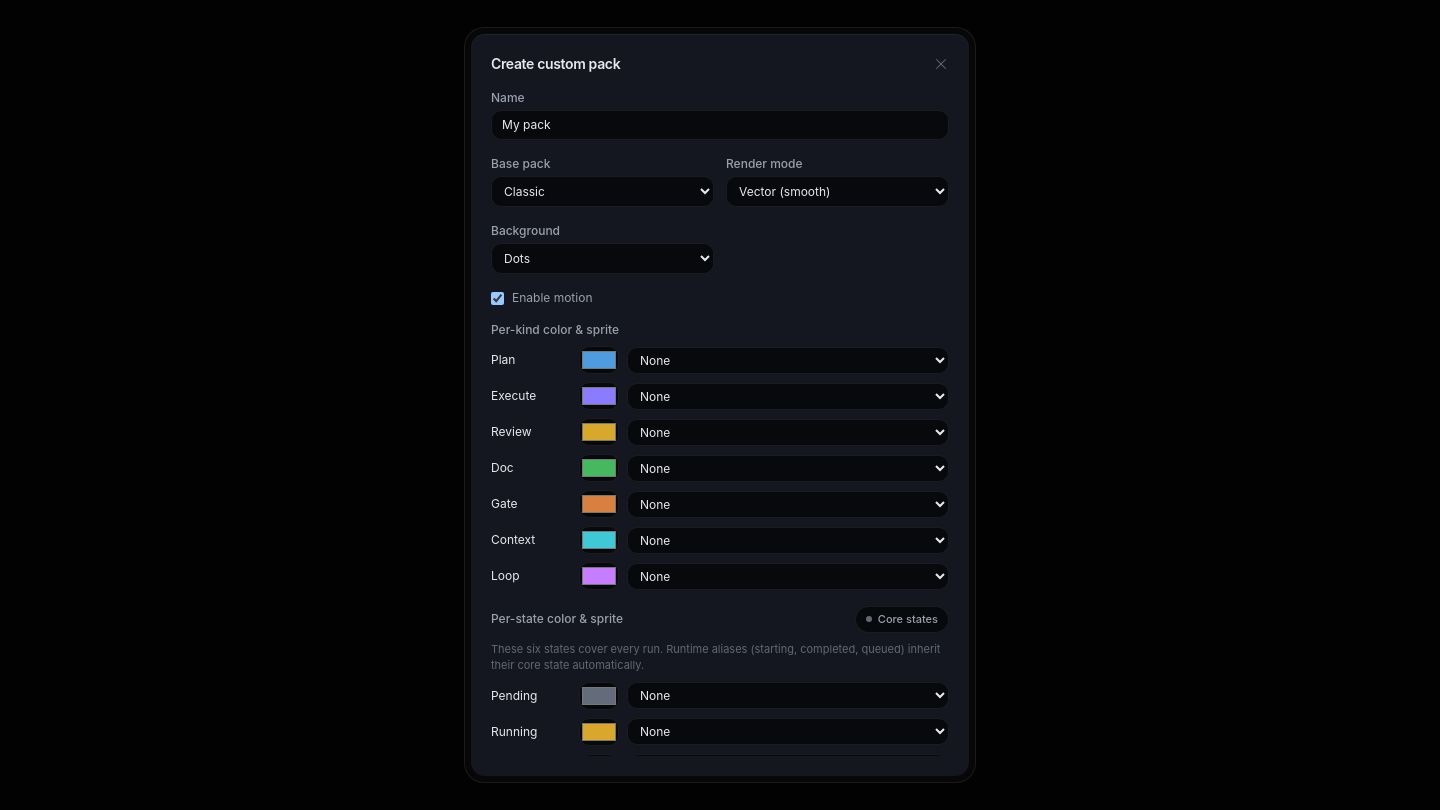
Test case: CustomPackBuilder › reveals all 16 states when 'show all states' is toggled on
The image size is (1440, 810).
Click the switch named "Show all states": point(902, 619) [855,606,949,632]
(page scrolled)
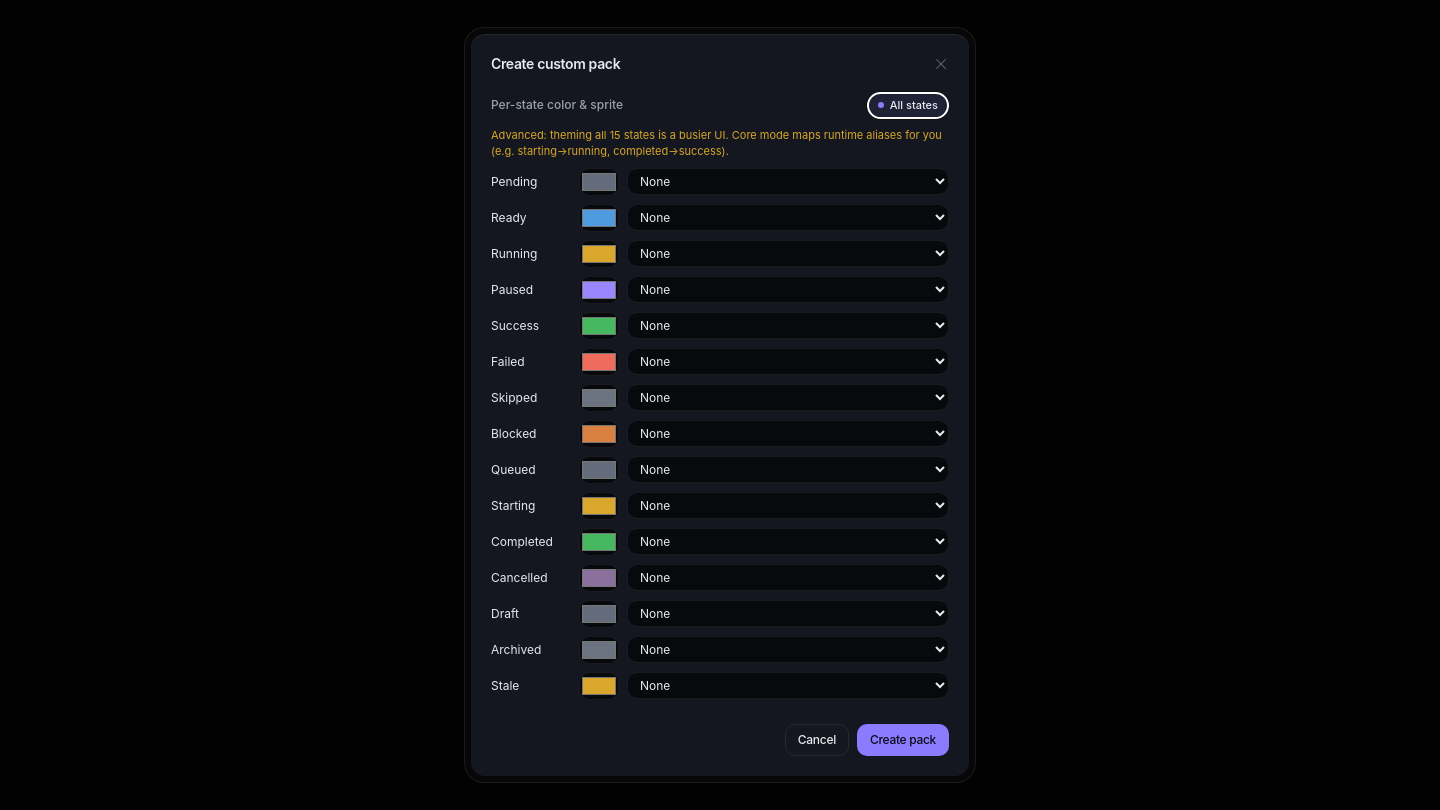
Now the dropdown named "blocked state sprite" is shown, box [627,420,949,447]
